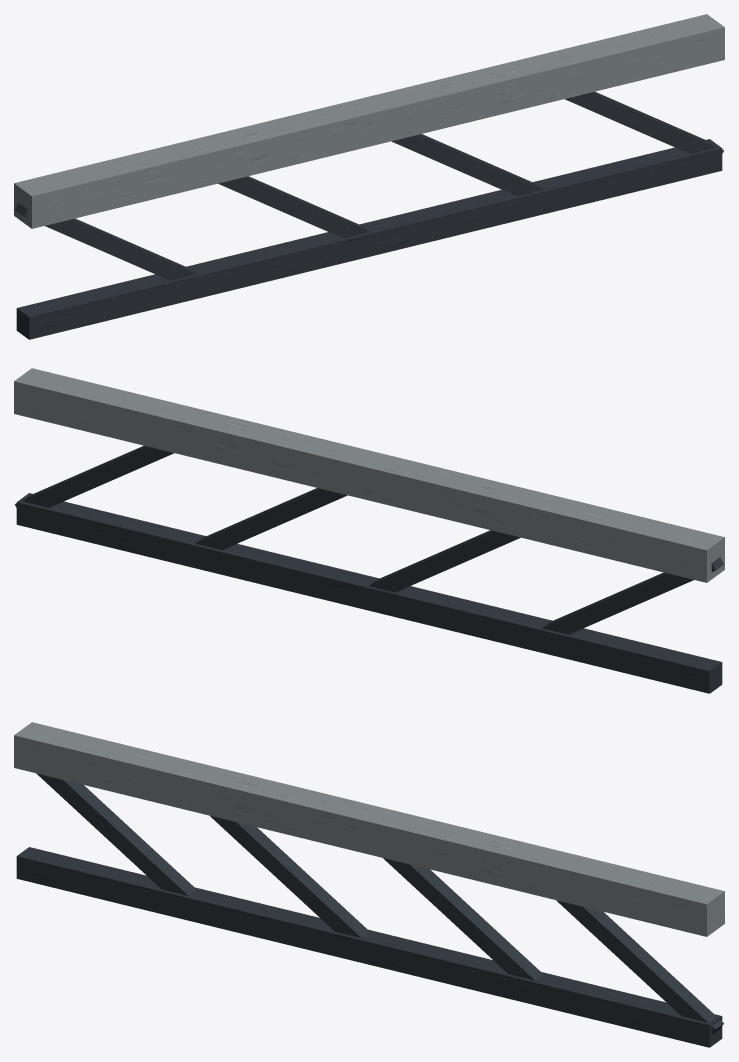
Rendered from SolarBoom.fbx.
The picture shows the model from 3 angles, top to bottom: view 1: azimuth 30°, elevation 25°; view 2: azimuth 150°, elevation 25°; view 3: azimuth 330°, elevation 25°; orthographic projection.
Visible parts, largest first — view 1: SolarBoom; view 2: SolarBoom; view 3: SolarBoom.
Part boxes in pixels (box(x1,y1,x2,y2)): SolarBoom: box(14, 14, 724, 339); SolarBoom: box(14, 368, 724, 693); SolarBoom: box(14, 722, 724, 1047).
Size of the model in its own units: 809 by 161 by 36.
